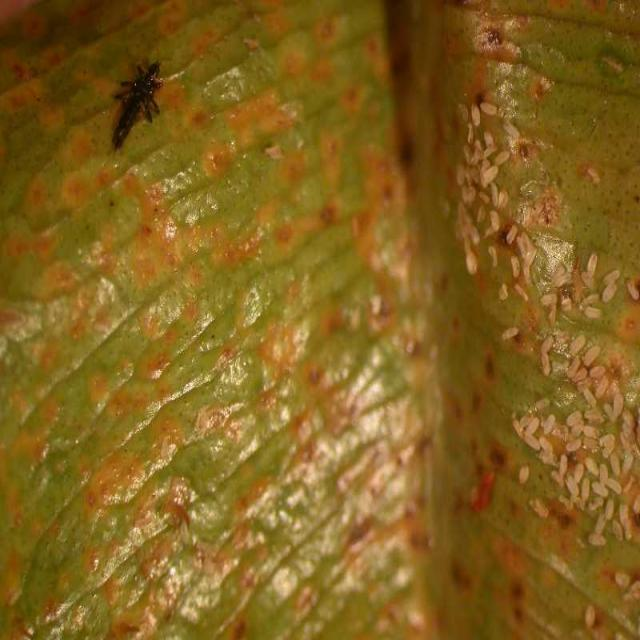Thrip-Adult-: (108, 40, 167, 156)
Thrip-Group-: (420, 53, 634, 579)
